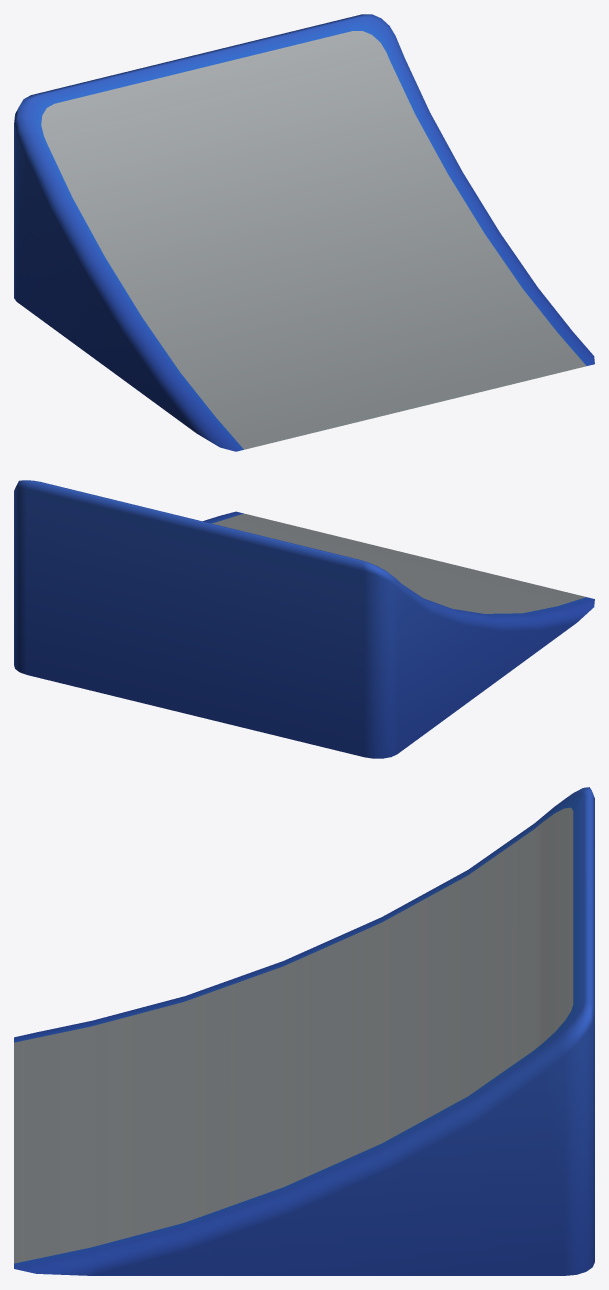
Rendered from Trampoline_03.fbx.
3 views of the same model, one above another, from view 1: azimuth 30°, elevation 25°; view 2: azimuth 150°, elevation 25°; view 3: azimuth 270°, elevation 25° (orthographic). The views are drawn at different scales.
Parts seen in each view (by area): view 1: Trampoline_03; view 2: Trampoline_03; view 3: Trampoline_03.
Part boxes in pixels (<box>): Trampoline_03: <box>14,14,594,451</box>; Trampoline_03: <box>14,480,594,758</box>; Trampoline_03: <box>14,787,594,1275</box>.
Size of the model in its own units: 400 by 400 by 194.
